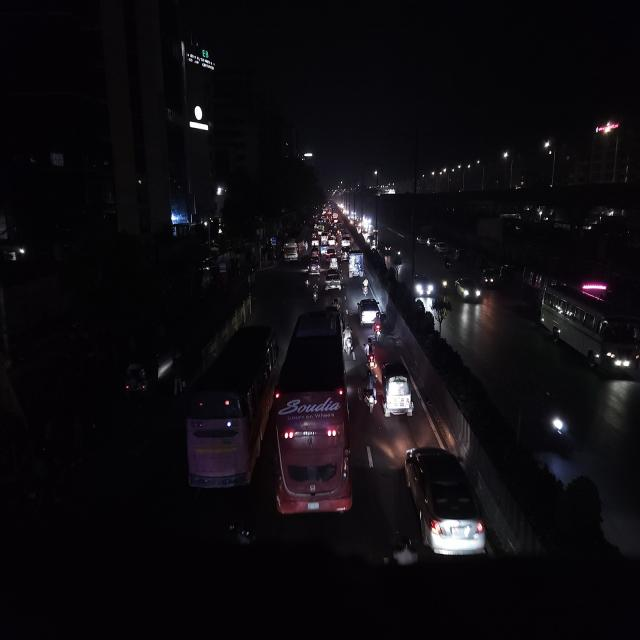bus: (182, 322, 278, 502), (275, 307, 352, 530), (536, 279, 640, 377), (282, 240, 300, 264)
car: (402, 441, 488, 566), (454, 273, 482, 306), (356, 294, 380, 328), (412, 270, 434, 300), (325, 268, 343, 292), (307, 257, 321, 276), (327, 253, 339, 269), (432, 239, 444, 254), (327, 248, 337, 260)
cng: (122, 349, 164, 410), (382, 368, 416, 425), (432, 295, 452, 327), (481, 265, 496, 289)
motorcycle: (539, 384, 571, 455), (360, 370, 378, 421), (363, 335, 377, 371), (372, 310, 384, 342), (345, 325, 355, 361), (348, 332, 358, 363), (310, 282, 320, 304), (360, 276, 370, 296), (440, 272, 449, 293), (443, 255, 452, 272), (302, 273, 310, 289)
truck: (347, 247, 365, 280)
